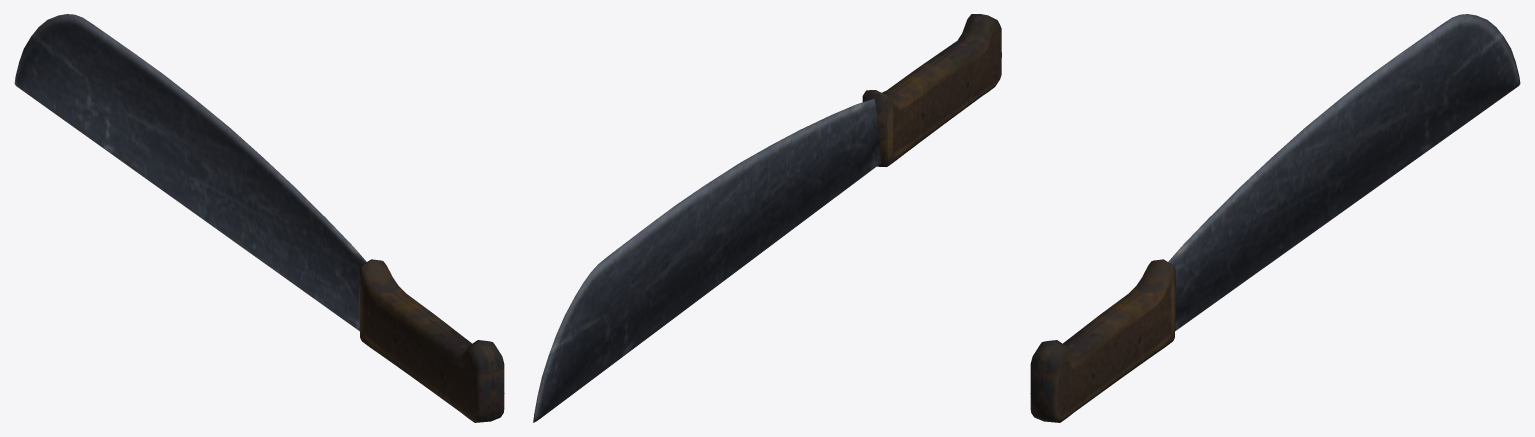
The model's file is Weapons_Machete01_3P_LOD0.glb.
3 renders of one model, left to right at view 1: azimuth 30°, elevation 25°; view 2: azimuth 150°, elevation 25°; view 3: azimuth 330°, elevation 25°, orthographic. The views are drawn at different scales.
Parts seen in each view (by area): view 1: Hoodie; view 2: Hoodie; view 3: Hoodie.
Part boxes in pixels (box(x1,y1,x2,y2)): Hoodie: box(14, 14, 504, 422); Hoodie: box(533, 14, 1001, 422); Hoodie: box(1030, 14, 1520, 422).
Bounding box in the file's own units: 0.0211 × 0.0884 × 0.6467.
1 material, 1 textured.
